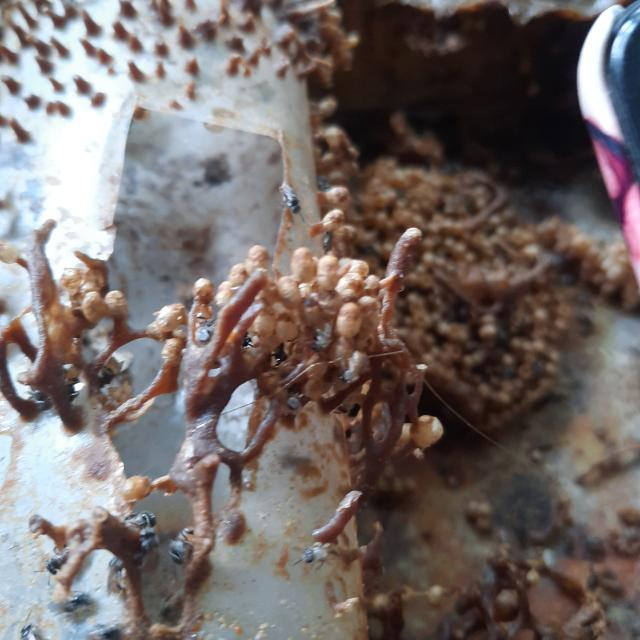honeybee: (23, 378, 78, 418), (96, 346, 135, 397), (64, 588, 104, 618), (172, 523, 195, 568), (40, 545, 72, 576), (307, 318, 334, 354), (279, 180, 304, 218), (340, 352, 369, 381), (299, 543, 331, 568), (271, 338, 296, 368), (195, 316, 219, 346), (115, 507, 161, 522), (106, 560, 124, 596), (236, 326, 260, 350), (19, 619, 44, 640), (340, 399, 361, 424), (89, 625, 122, 640), (284, 391, 305, 414), (321, 227, 336, 255), (142, 530, 154, 564)
